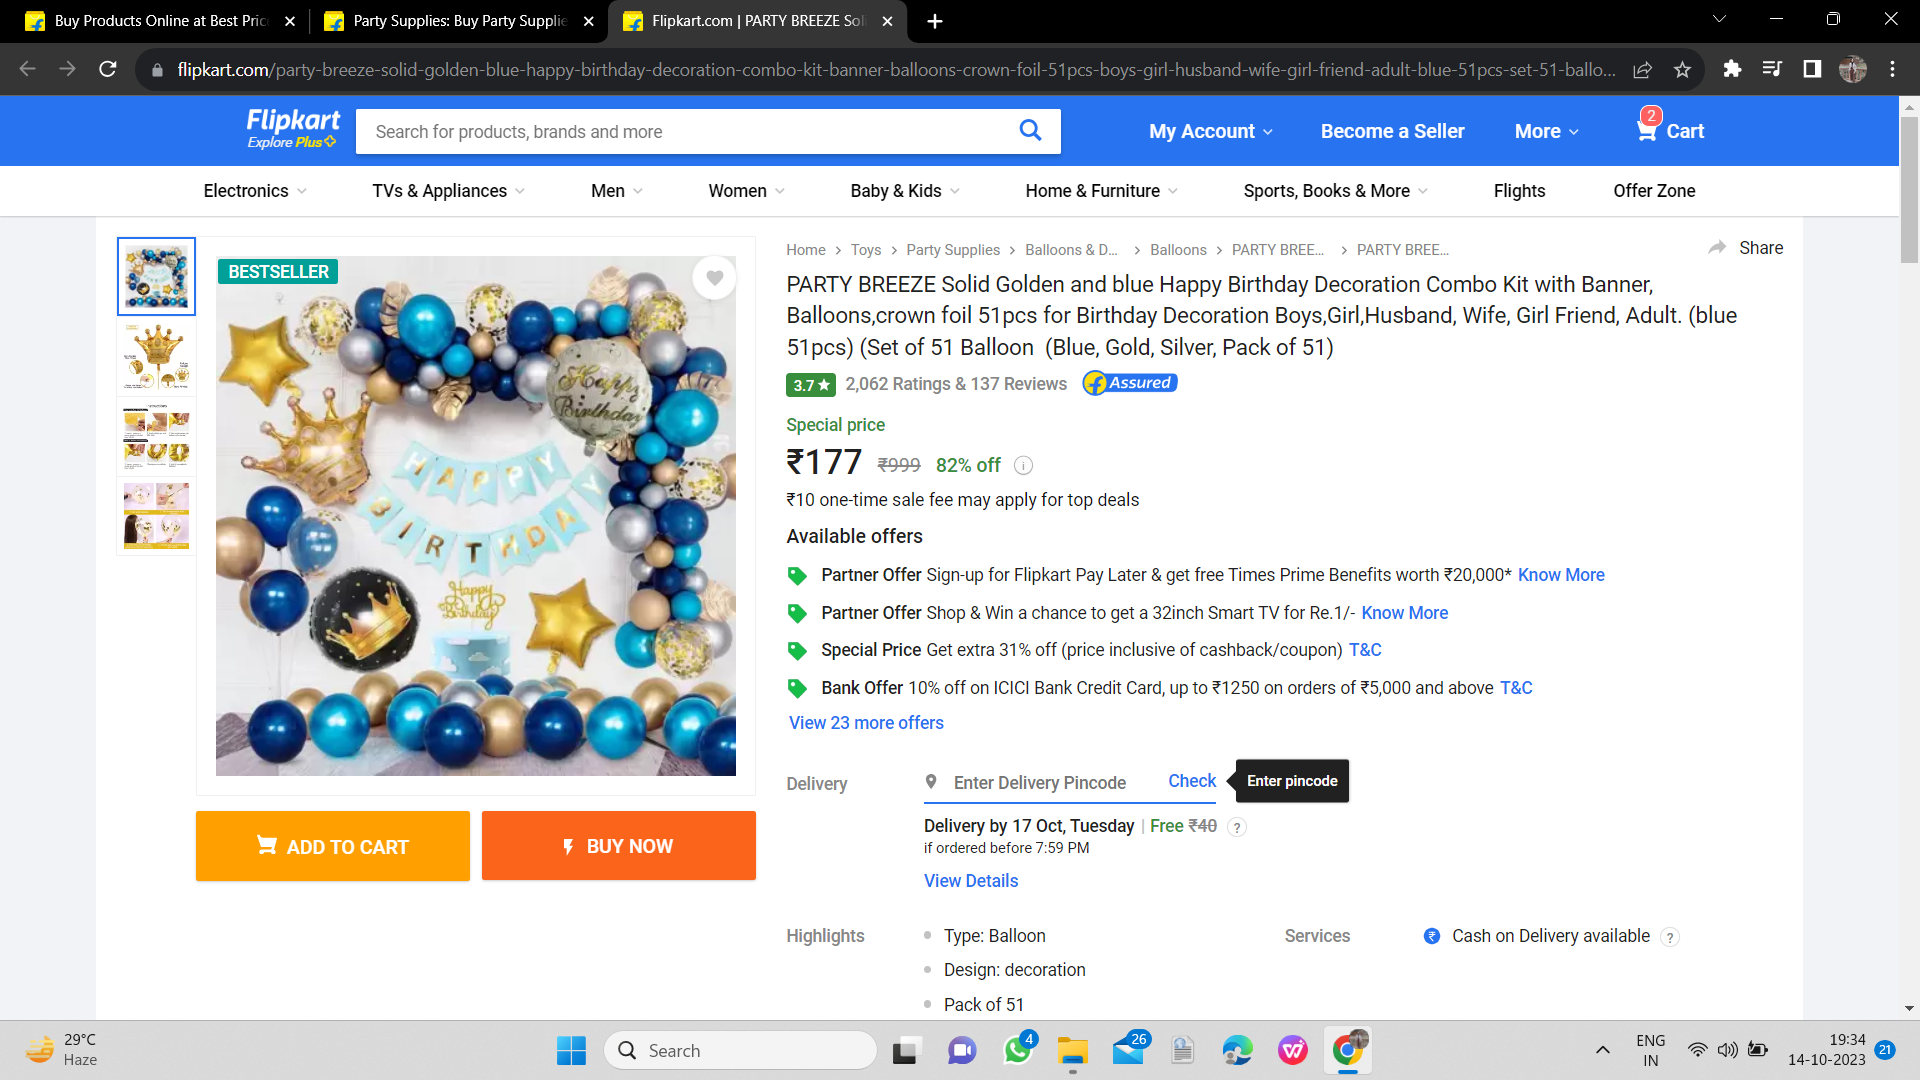Image: (211, 249, 741, 779)
Paragraph: (775, 558, 1631, 737), (766, 266, 1771, 359), (183, 800, 762, 886), (1131, 96, 1713, 156), (778, 920, 1109, 1013), (920, 748, 1365, 806), (771, 363, 1193, 404), (771, 410, 1006, 480), (1262, 916, 1658, 948), (778, 485, 1151, 514), (910, 814, 1138, 839), (778, 524, 940, 547), (783, 769, 848, 803)
